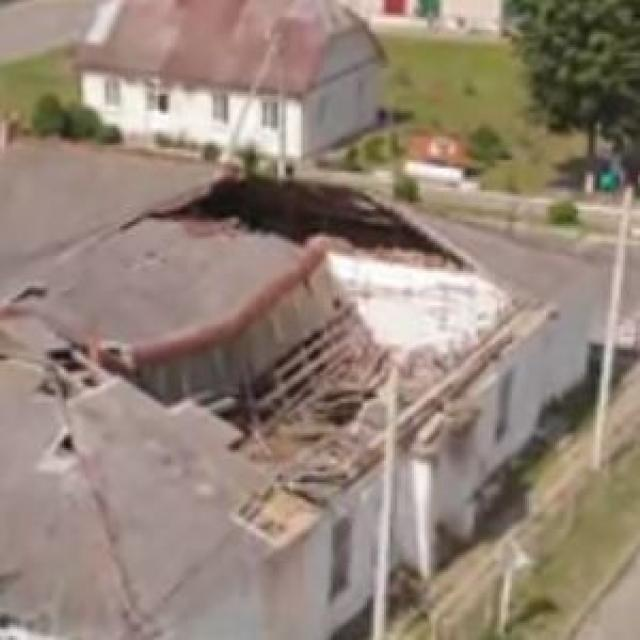collapsed_building: (4, 168, 555, 554)
